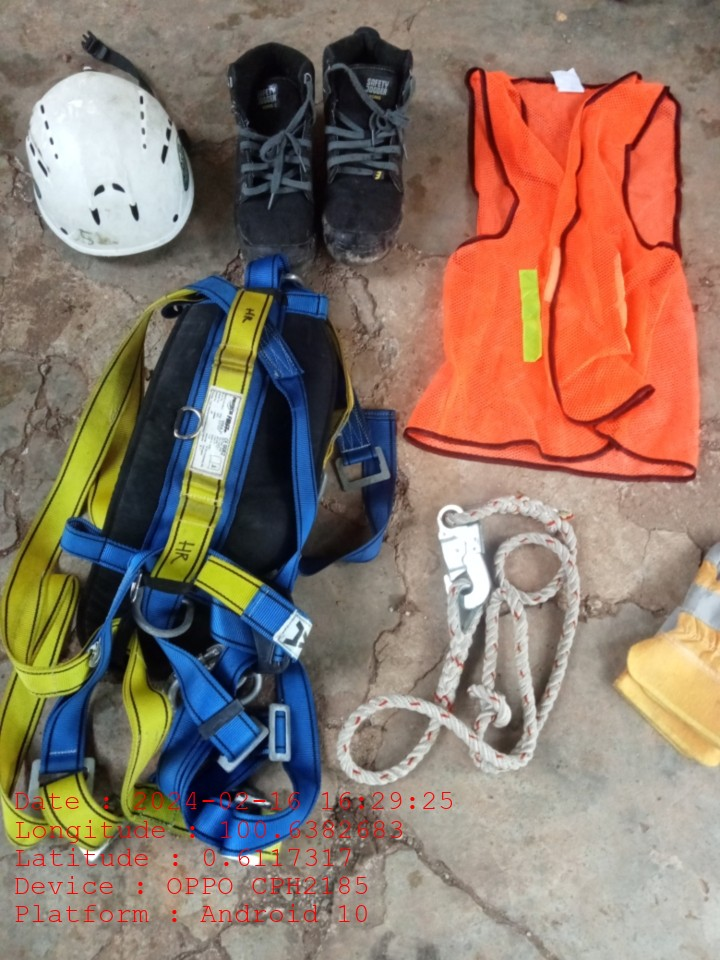HELM: (22, 68, 195, 257)
ROMPI: (412, 68, 699, 479)
SEPATU: (226, 28, 408, 266)
TAMBANG_SLING: (335, 491, 585, 787)
